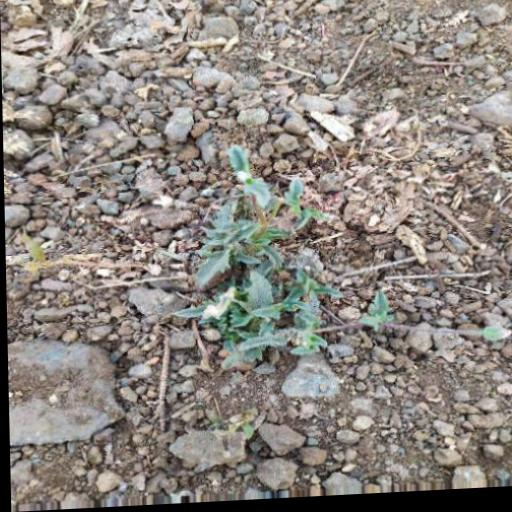weed: (141, 156, 398, 400)
